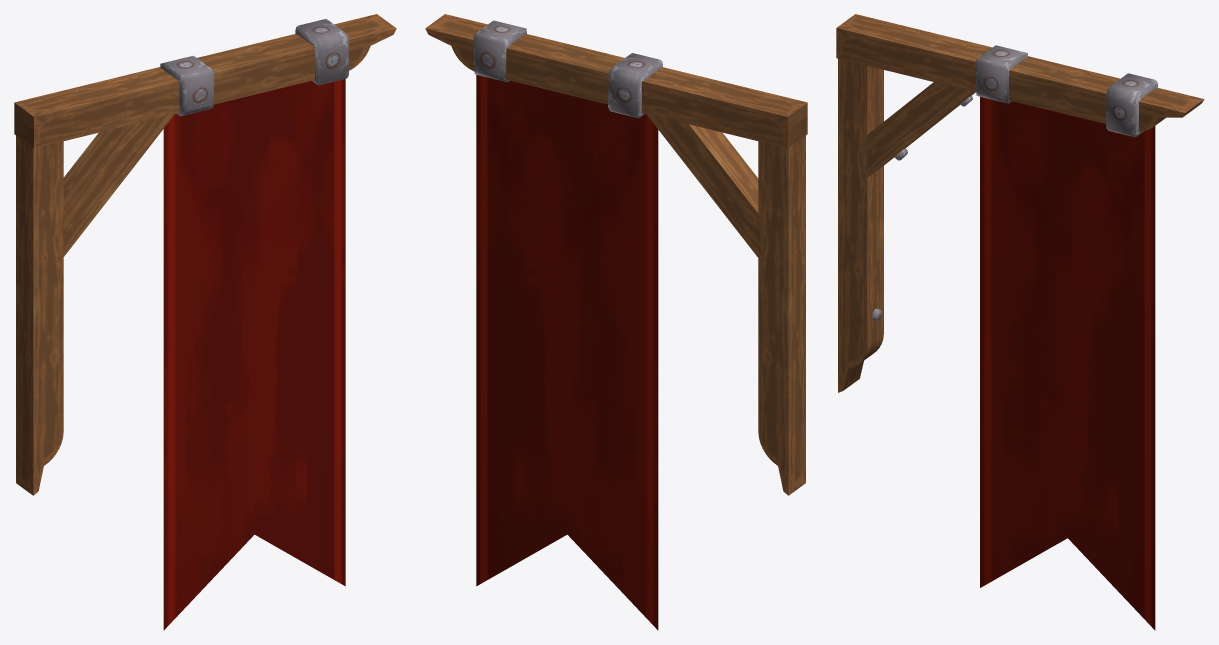
The model's file is banner_1.glb.
3 renders of one model, left to right at view 1: azimuth 30°, elevation 25°; view 2: azimuth 150°, elevation 25°; view 3: azimuth 330°, elevation 25°, orthographic. The views are drawn at different scales.
Visible parts, largest first — view 1: Banner_1; view 2: Banner_1; view 3: Banner_1.
Part boxes in pixels (<box>): Banner_1: <box>14,14,396,630</box>; Banner_1: <box>425,14,807,630</box>; Banner_1: <box>836,14,1204,630</box>.
Bounding box in the file's own units: 1.61 × 2.39 × 0.1906.
Materials: 3 (3 with a texture image).
